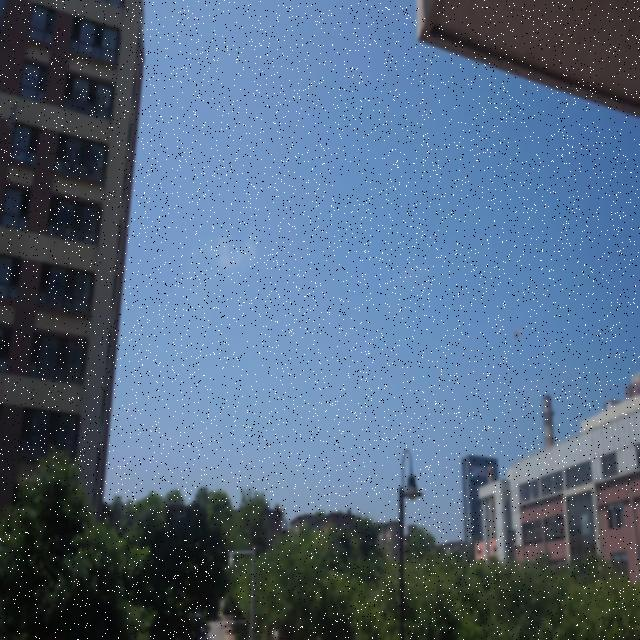UAV: (512, 330, 522, 340)
